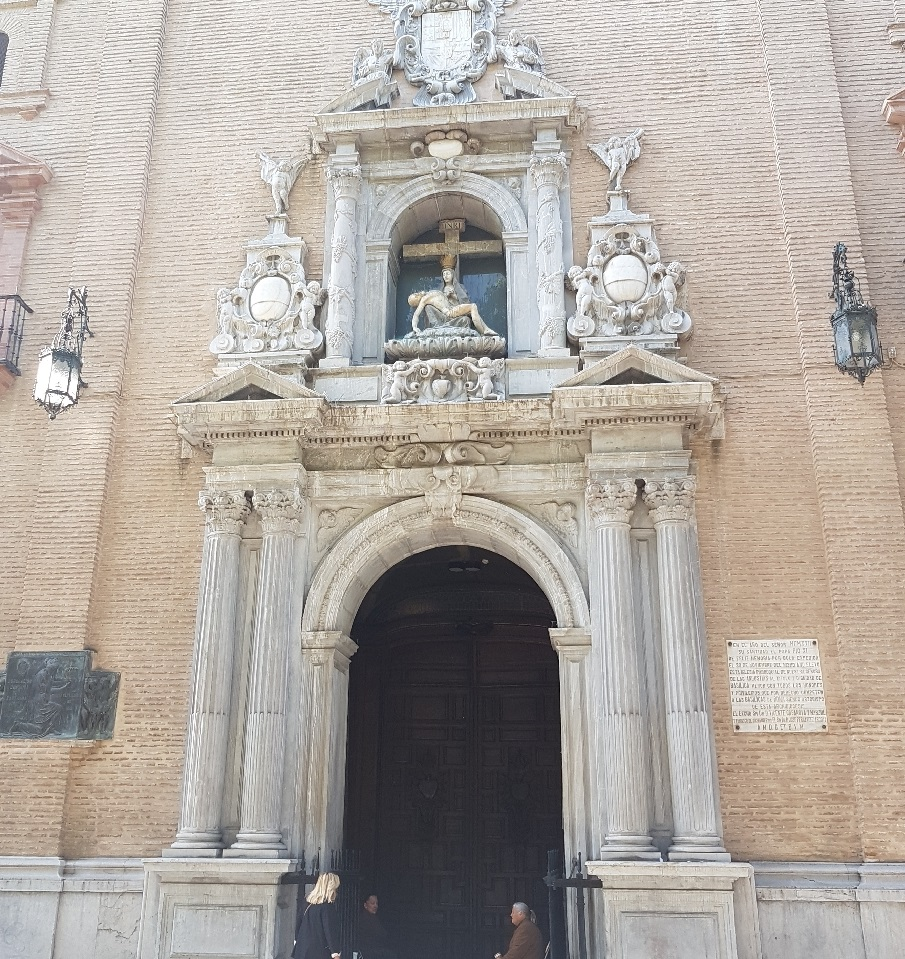arco-medio-punto: (320, 514, 572, 675), (380, 187, 514, 267)
fronton: (548, 341, 721, 398), (168, 358, 326, 412)
fronton-partido: (314, 62, 577, 132)
